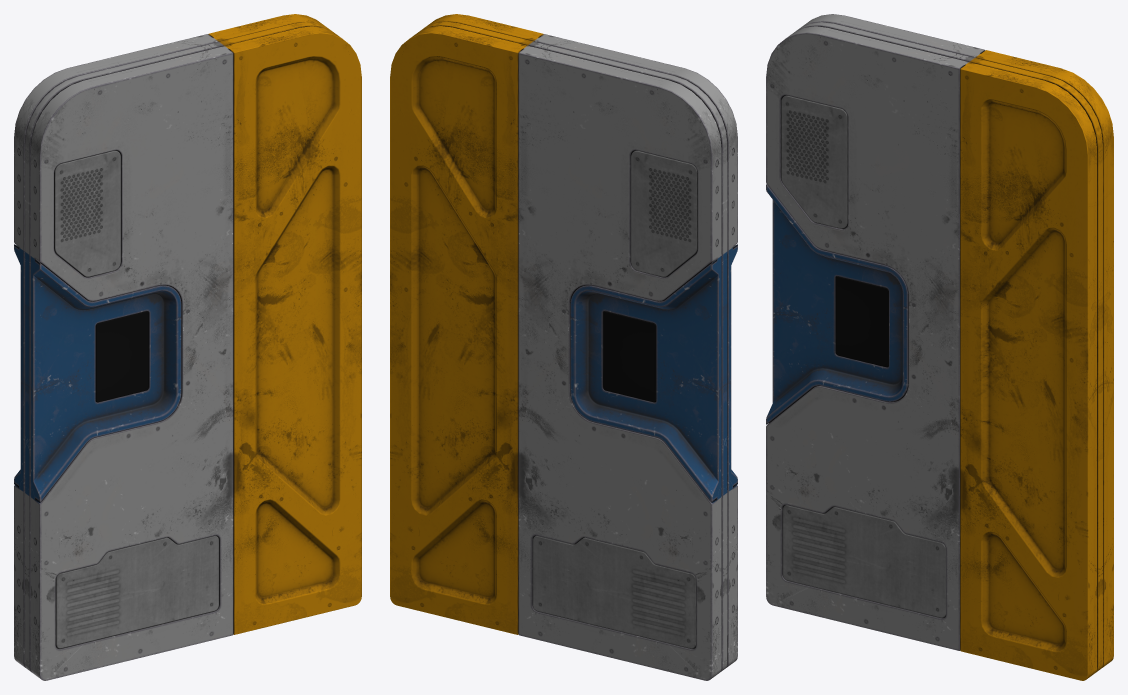
The model's file is SM_Door01.fbx.
3 views of the same model, side by side, from view 1: azimuth 30°, elevation 25°; view 2: azimuth 150°, elevation 25°; view 3: azimuth 330°, elevation 25° (orthographic).
Visible parts, largest first — view 1: SM_Door01_LOD0; view 2: SM_Door01_LOD0; view 3: SM_Door01_LOD0.
Part boxes in pixels (x1,y1,x2,y2): SM_Door01_LOD0: (14, 14, 361, 680); SM_Door01_LOD0: (390, 14, 737, 680); SM_Door01_LOD0: (766, 14, 1113, 680).
Size of the model in its own units: 140 by 19.68 by 242.
1 material, 1 textured.
